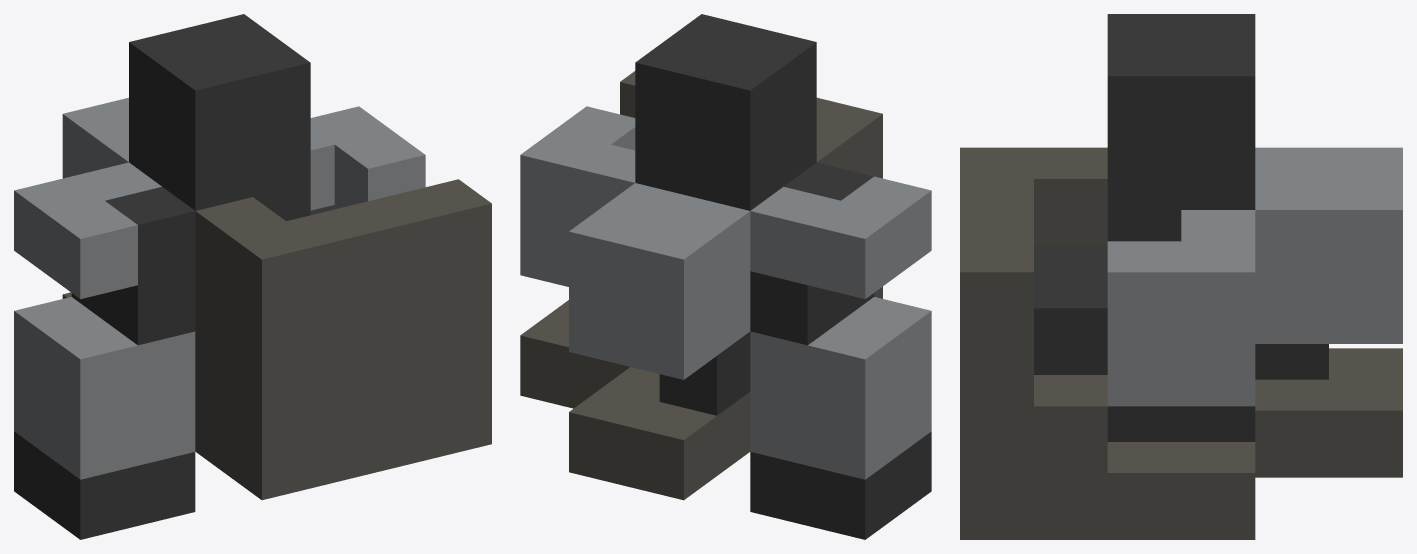
The model's file is Leg-18.obj.
3 renders of one model, left to right at view 1: azimuth 30°, elevation 25°; view 2: azimuth 150°, elevation 25°; view 3: azimuth 270°, elevation 25°, orthographic. The views are drawn at different scales.
Bounding box in the file's own units: 0.6 × 0.7 × 0.6.
1 material, 1 textured.
